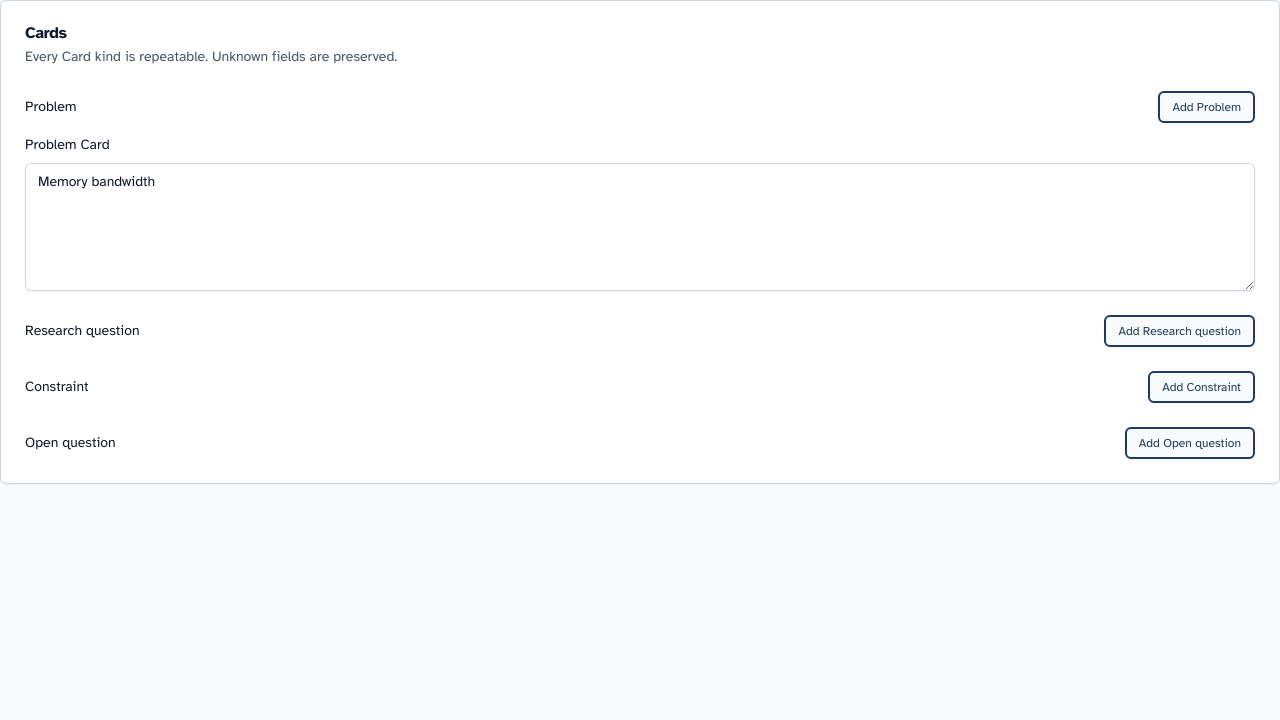
Test: WorkingDraftCardCanvas › keeps every offered Card kind repeatable
The image size is (1280, 720).
Click the button "Add Problem" at (1207, 107), box left=1158, top=91, right=1255, bottom=123
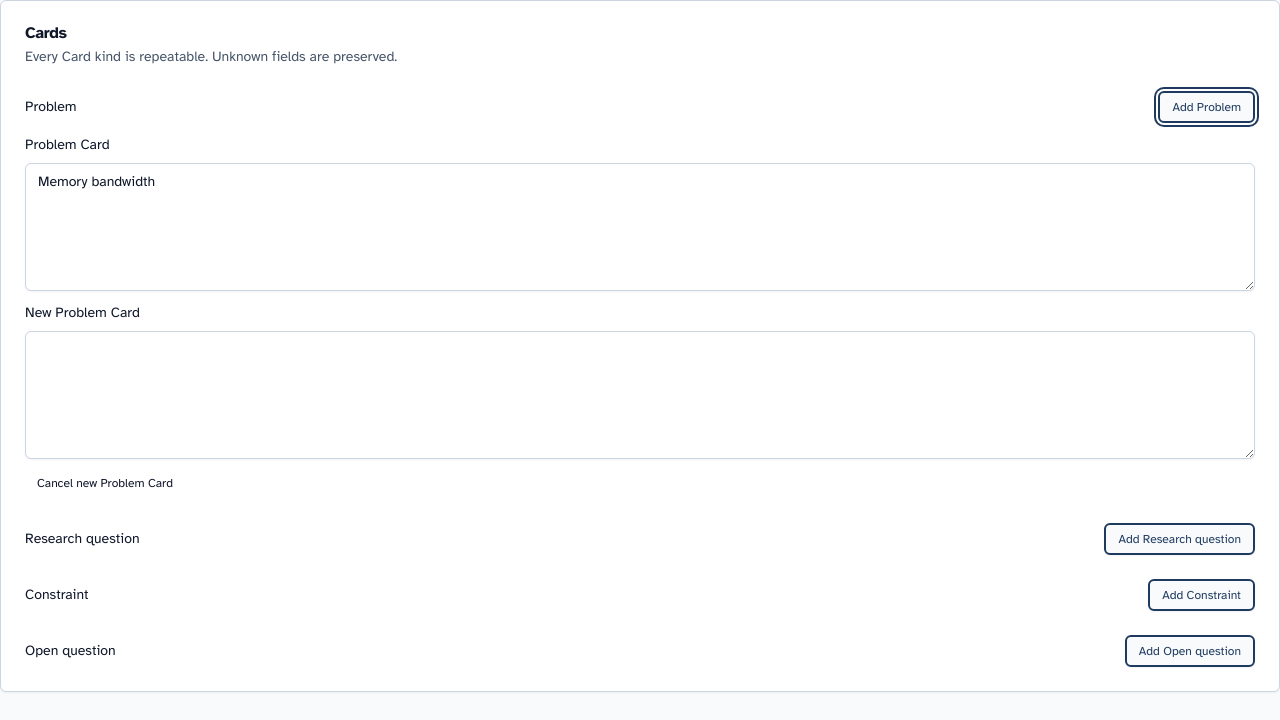
Click the button "Add Problem" at (1207, 107), box left=1158, top=91, right=1255, bottom=123
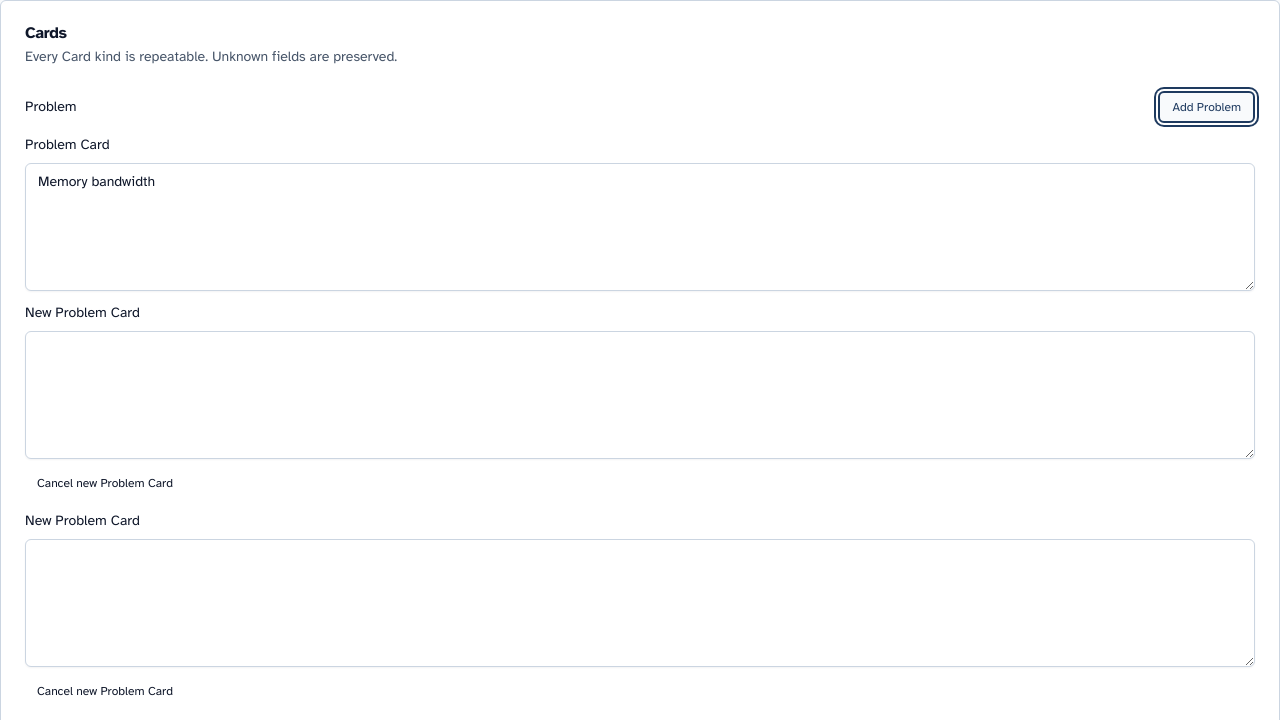
Expected: the number of text boxes labelled "Problem Card" is 1, left=25, top=163, right=1255, bottom=291
Result: the number of text boxes labelled "New Problem Card" is 2 at left=25, top=331, right=1255, bottom=459; left=25, top=539, right=1255, bottom=667
